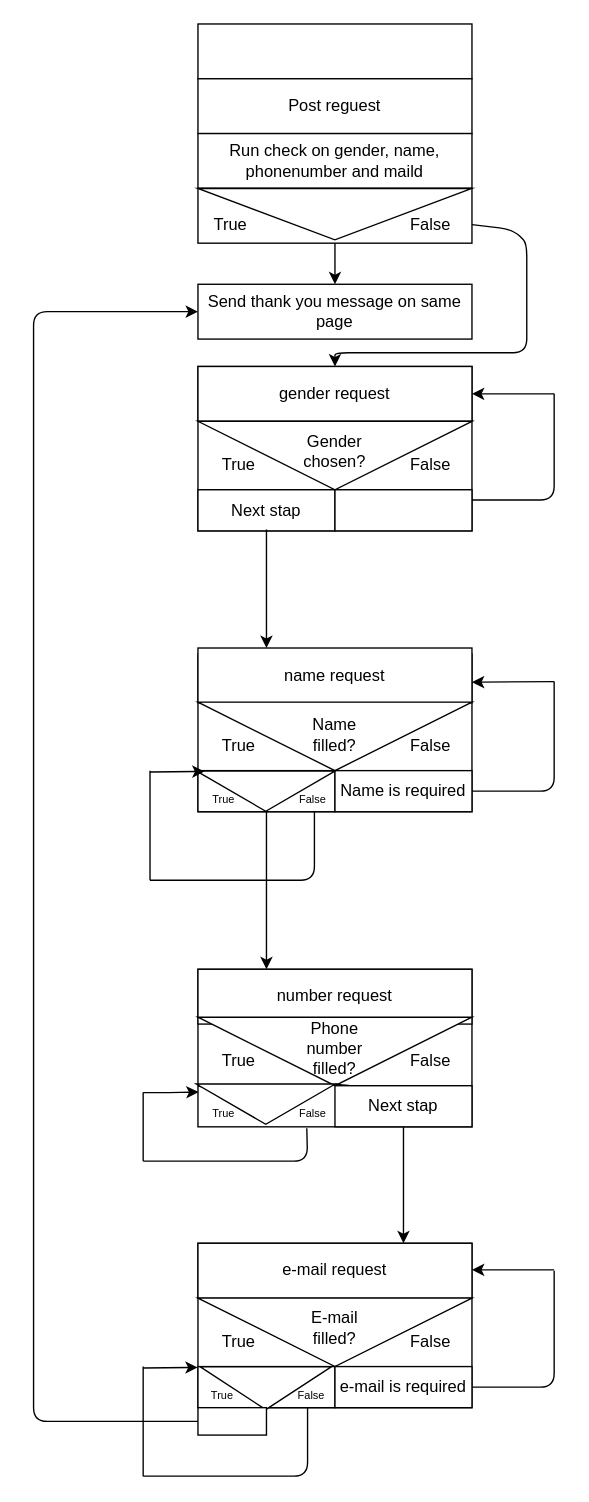
The diagram is 589 pixels wide and 1502 high, and some of its shapes have lost their labels. The shapes that lost their labels are listed below. From the top down, each one's centre as x and y in pixels, then its label:
At (x=334, y=51): "Analyse request".
At (x=334, y=213): "Everything correct filled?".
At (x=403, y=509): "Chose gender".
At (x=265, y=790): "Only letters ?".
At (x=265, y=1103): "Only numbers ?".
At (x=265, y=1388): "Contains @?".
At (x=231, y=1420): "Next step".
